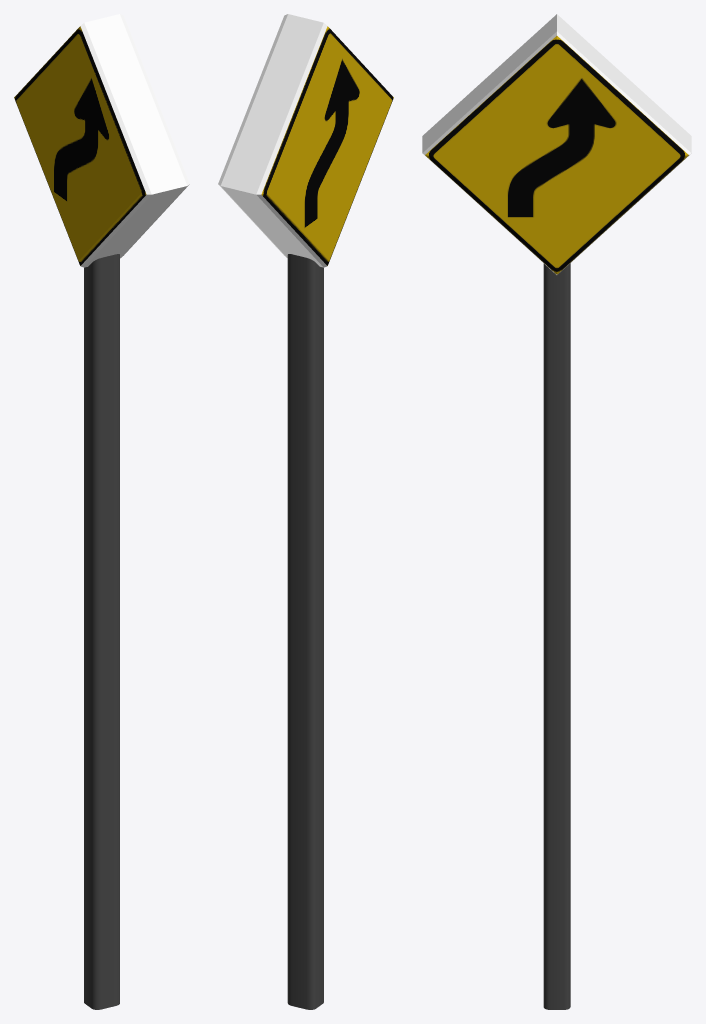
Rendered from direction-sign.fbx.
3 views of the same model, side by side, from view 1: azimuth 30°, elevation 25°; view 2: azimuth 150°, elevation 25°; view 3: azimuth 270°, elevation 25° (orthographic).
Parts seen in each view (by area): view 1: Cube.005, Cube.006; view 2: Cube.005, Cube.006; view 3: Cube.006, Cube.005.
Boxes of the visible parts, box(x1,y1,x2,y2) form: Cube.005: box(84, 254, 119, 1009); Cube.006: box(14, 14, 189, 267); Cube.005: box(287, 254, 323, 1009); Cube.006: box(218, 14, 393, 267); Cube.006: box(422, 14, 691, 274); Cube.005: box(543, 263, 570, 1009).
Size of the model in its own units: 39.31 by 795 by 198.
2 materials, 1 textured.
